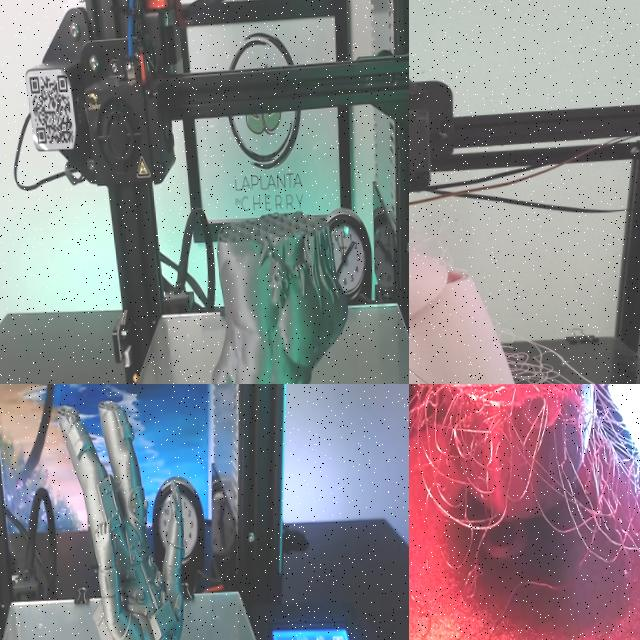spaghetti: (409, 384, 640, 564), (501, 341, 596, 384)
